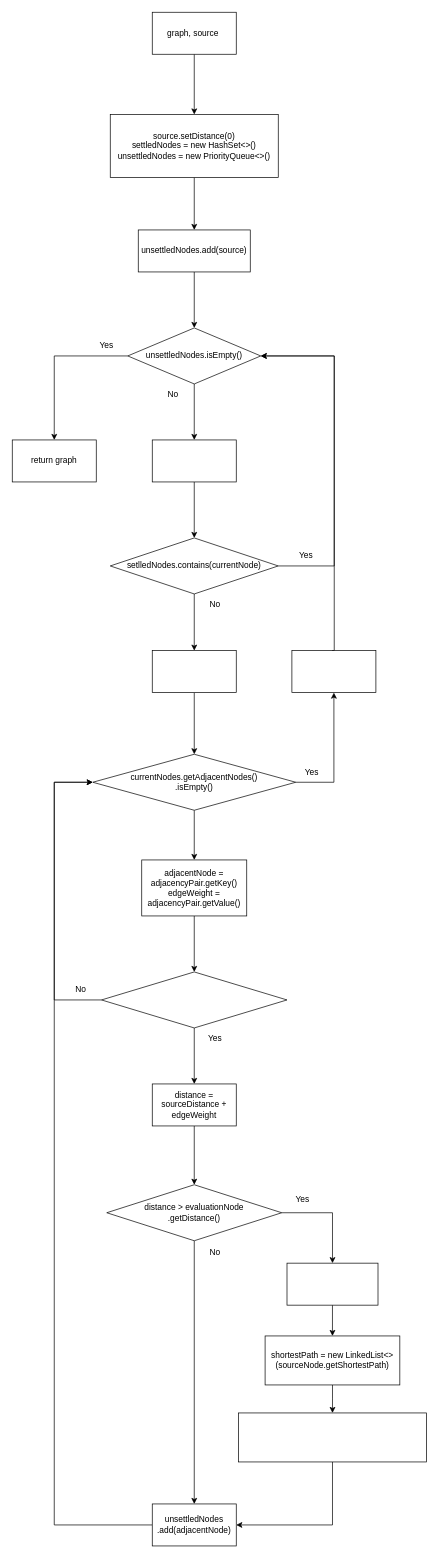
Image size: 439x1558. Some labels were removed from this diagram. Here are the shapes that lost their labels. From the top down, the centre of each, then its label:
the point at 194,460: settledNotes = unsettledNodes.poll()
the point at 194,671: Get Adjacent Nodes
the point at 333,671: settledNodes .add(currentNode)
the point at 194,999: !settledNodes.contains(adjacentNode)
the point at 332,1283: evaluationNode .setDistance(distance)
the point at 332,1437: shortestPath.add(sourceNode) evaluationNode.setShortestPath(shortestPath)
